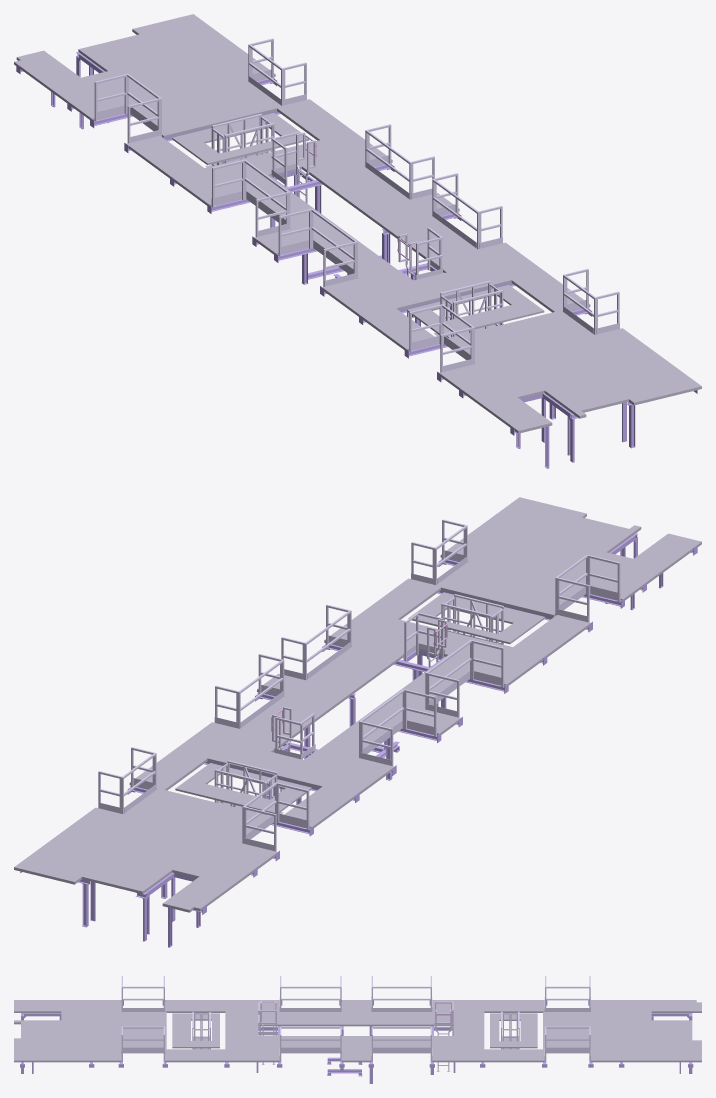
Rendered from HS-CENTRAL-PIT-STRUCTURE-cut3.glb.
3 renders of one model, top to bottom at view 1: azimuth 30°, elevation 25°; view 2: azimuth 150°, elevation 25°; view 3: azimuth 270°, elevation 25°, orthographic. The views are drawn at different scales.
Visible parts, largest first — view 1: _000001E91E431160_IndexedFaceSet, _000001E91E42F1E0_IndexedFaceSet, _000001E91E42F5D0_05_IndexedFaceSet; view 2: _000001E91E431160_IndexedFaceSet, _000001E91E42F1E0_IndexedFaceSet, _000001E91E42F5D0_05_IndexedFaceSet; view 3: _000001E91E431160_IndexedFaceSet, _000001E91E42F1E0_IndexedFaceSet, _000001E91E42F5D0_05_IndexedFaceSet.
Boxes of the visible parts, x1,y1,x2,y2 form: _000001E91E431160_IndexedFaceSet: [14, 14, 701, 433]; _000001E91E42F1E0_IndexedFaceSet: [94, 38, 619, 372]; _000001E91E42F5D0_05_IndexedFaceSet: [16, 52, 697, 468]; _000001E91E431160_IndexedFaceSet: [14, 497, 701, 912]; _000001E91E42F1E0_IndexedFaceSet: [98, 519, 620, 851]; _000001E91E42F5D0_05_IndexedFaceSet: [20, 533, 697, 947]; _000001E91E431160_IndexedFaceSet: [14, 1000, 701, 1062]; _000001E91E42F1E0_IndexedFaceSet: [121, 976, 590, 1071]; _000001E91E42F5D0_05_IndexedFaceSet: [20, 1000, 693, 1083].
Size of the model in its own units: 5.4 by 2.67 by 25.91.
